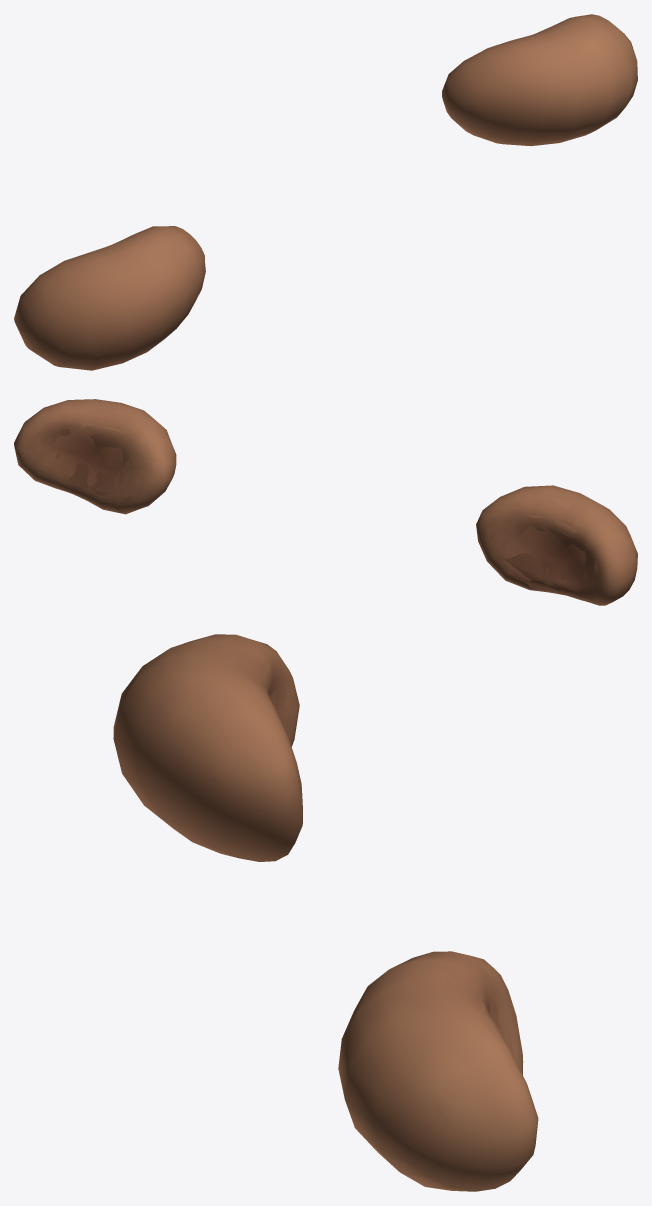
Rendered from Adrenal Glands.fbx.
3 renders of one model, top to bottom at view 1: azimuth 30°, elevation 25°; view 2: azimuth 150°, elevation 25°; view 3: azimuth 270°, elevation 25°, orthographic. The views are drawn at different scales.
Visible parts, largest first — view 1: Adrenal Glands, Adrenal Glands high; view 2: Adrenal Glands, Adrenal Glands low, Adrenal Glands high; view 3: Adrenal Glands, Adrenal Glands high, Adrenal Glands low.
Part boxes in pixels (bbox=[...]): Adrenal Glands: bbox=[14, 14, 637, 370]; Adrenal Glands high: bbox=[23, 18, 633, 367]; Adrenal Glands: bbox=[14, 399, 637, 605]; Adrenal Glands low: bbox=[31, 406, 598, 601]; Adrenal Glands high: bbox=[17, 401, 636, 602]; Adrenal Glands: bbox=[113, 634, 538, 1191]; Adrenal Glands high: bbox=[117, 637, 532, 1182]; Adrenal Glands low: bbox=[223, 650, 513, 1055].
Size of the model in its own units: 7.89 by 1.72 by 2.63.
